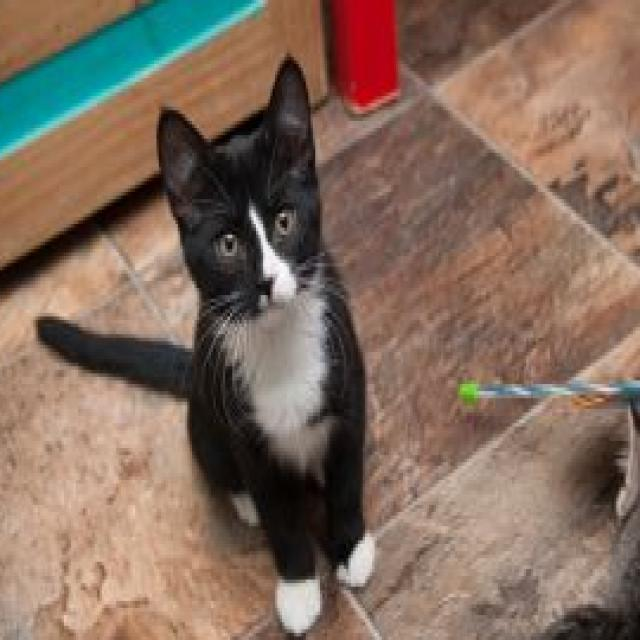Tuxedo: (34, 50, 379, 639)
